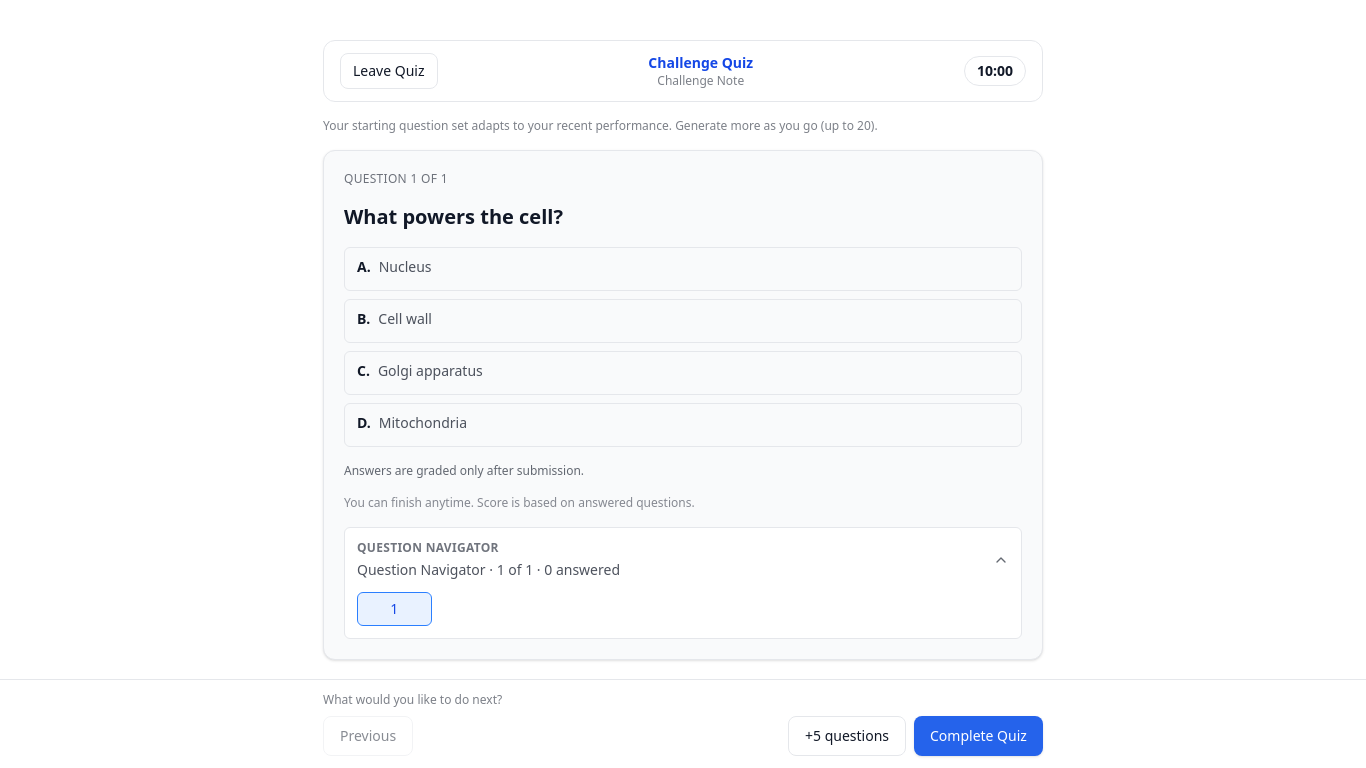
ChallengeQuizPage › polls another tab's MORE_IN_PROGRESS job without a local Stop marker
Step 1. Click the button "+5 questions" → click(847, 736), box [788, 716, 906, 756]
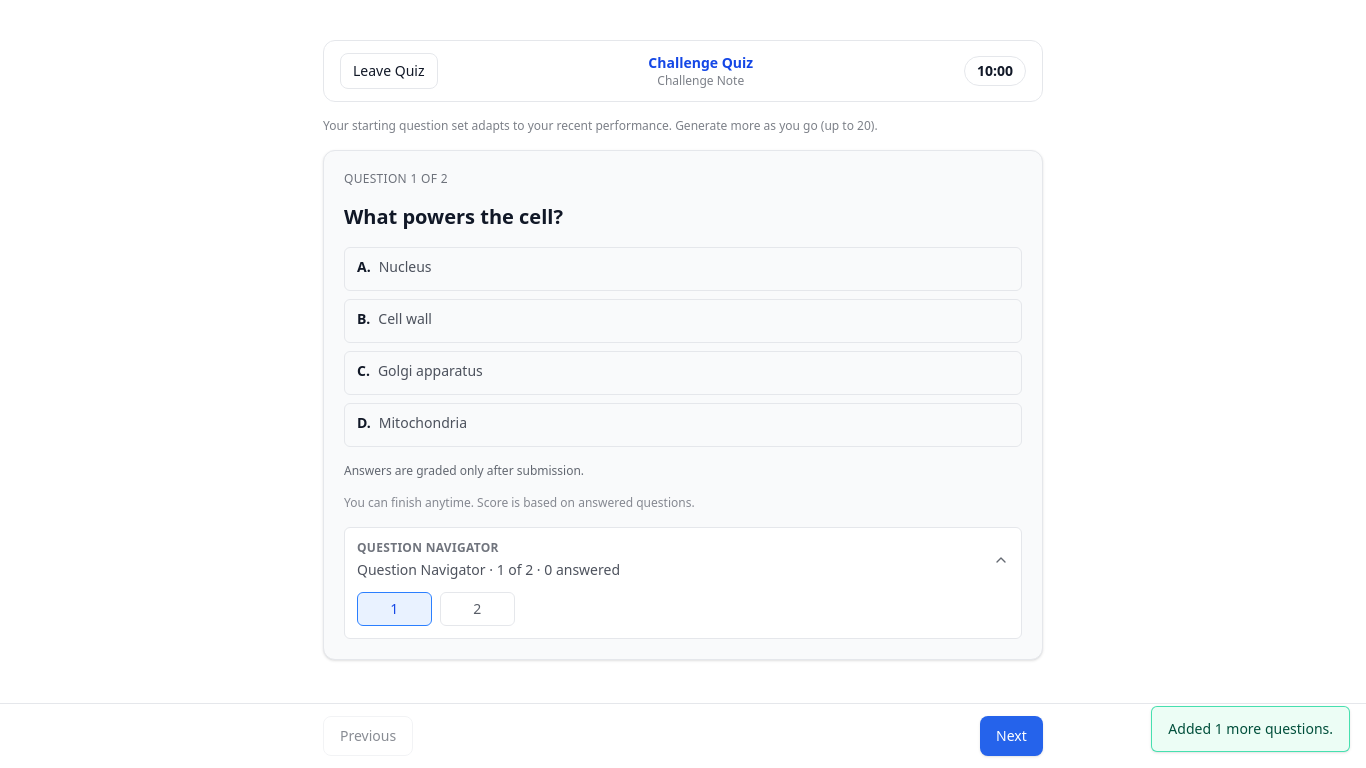
expect the text "Added 1 more questions." is shown: met, box [1151, 706, 1350, 752]
